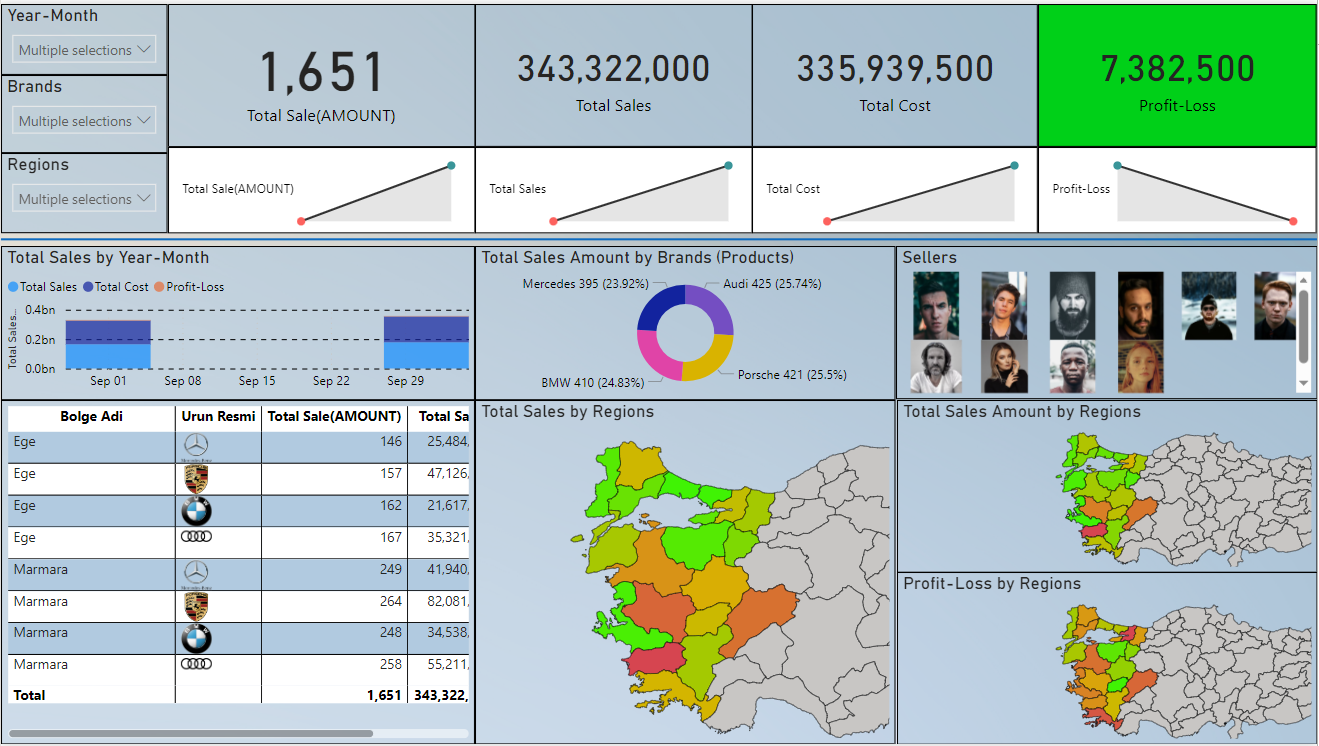

The dashboard page shown, as its layout file describes it:
{"tool":"powerbi","page":{"name":"Sales by Regions","canvas":[1280,720],"ordinal":0},"visuals":[{"type":"slicer","title":"Year-Month","fields":{"Values":["Satis Verileri.Yil-Ay"]},"box":[0,0,162.4,69.4],"z":0},{"type":"slicer","title":"Brands","fields":{"Values":["Urunler.Urun Adi"]},"box":[0,69.4,162.4,75.5],"z":1000},{"type":"card","fields":{"Values":["Measurements.Total Sale(AMOUNT)"]},"box":[162.4,0,298.5,138.7],"z":2000},{"type":"card","fields":{"Values":["Measurements.Total Sales"]},"box":[461,0,269.6,138.7],"z":3000},{"type":"card","fields":{"Values":["Measurements.Total Cost"]},"box":[730.5,0,278.3,138.7],"z":4000},{"type":"card","fields":{"Values":["Measurements.Profit-Loss"]},"box":[1008.9,0,271.3,138.7],"z":5000},{"type":"PBI_CV_25997FEB_F466_44FA_B562_AC4063283C4C","fields":{"axis":["Satis Verileri.Yil-Ay"],"measure":["Measurements.Total Sale(AMOUNT)"]},"box":[162.4,138.7,298.5,84.3],"z":6000},{"type":"PBI_CV_25997FEB_F466_44FA_B562_AC4063283C4C","fields":{"axis":["Satis Verileri.Yil-Ay"],"measure":["Measurements.Total Sales"]},"box":[461,138.7,269.6,84.3],"z":7000},{"type":"PBI_CV_25997FEB_F466_44FA_B562_AC4063283C4C","fields":{"axis":["Satis Verileri.Yil-Ay"],"measure":["Measurements.Total Cost"]},"box":[730.5,138.7,278.3,84.3],"z":8000},{"type":"PBI_CV_25997FEB_F466_44FA_B562_AC4063283C4C","fields":{"axis":["Satis Verileri.Yil-Ay"],"measure":["Measurements.Profit-Loss"]},"box":[1008.9,138.7,271.3,84.3],"z":9000},{"type":"columnChart","title":"Total Sales by Year-Month","fields":{"Category":["Satis Verileri.Yil-Ay"],"Y":["Measurements.Total Sales","Measurements.Total Cost","Measurements.Profit-Loss"]},"box":[0,235.3,461,150.1],"z":10000},{"type":"shape","box":[0,223,1280.2,12.3],"z":11000},{"type":"donutChart","title":"Total Sales Amount by Brands (Products)","fields":{"Y":["Measurements.Total Sale(AMOUNT)"],"Category":["Satis Verileri.Urun Adi"]},"box":[461,235.3,409.2,150.1],"z":12000},{"type":"tableEx","fields":{"Values":["Bolgeler.Bolge Adi","Urunler.Urun Resmi","Measurements.Total Sale(AMOUNT)","Measurements.Total Sales","Measurements.Total Cost"]},"box":[0,385.5,461,334.5],"z":13000},{"type":"shapeMap","title":"Total Sales by Regions","fields":{"Category":["Satis Verileri.Satis Merkezi"],"Value":["Measurements.Total Sales"]},"box":[461,385,409,335],"z":14000},{"type":"slicer","title":"Regions","fields":{"Values":["Bolgeler.Bolge Adi"]},"box":[0,144.9,162.4,78.1],"z":15000},{"type":"ImageGrid_FC5183B9_926C_45E0_B5F7_0CE9EAF1DA9B","title":"Sellers","fields":{"ImageURLHQ":["Saticilar.Fotograf Linki"]},"box":[870.1,235.3,410,149.3],"z":16000},{"type":"shapeMap","title":"Total Sales Amount by Regions","fields":{"Category":["Satis Verileri.Satis Merkezi"],"Value":["Measurements.Total Sale(AMOUNT)"]},"box":[871,385.5,409.2,167.7],"z":17000},{"type":"shapeMap","title":"Profit-Loss by Regions","fields":{"Category":["Satis Verileri.Satis Merkezi"],"Value":["Measurements.Profit-Loss"]},"box":[871,552.3,409.2,167.7],"z":18000}]}

Visuals, with their boxes in screenshot pixels (x1, y1, x2, y2), scaled from the page's 1280x720 canvas onto the 1319x746 screenshot:
"Year-Month" slicer: (x1=0, y1=0, x2=167, y2=72)
"Brands" slicer: (x1=0, y1=72, x2=167, y2=150)
card - Measurements.Total Sale(AMOUNT): (x1=167, y1=0, x2=475, y2=144)
card - Measurements.Total Sales: (x1=475, y1=0, x2=753, y2=144)
card - Measurements.Total Cost: (x1=753, y1=0, x2=1040, y2=144)
card - Measurements.Profit-Loss: (x1=1040, y1=0, x2=1318, y2=144)
PBI_CV_25997FEB_F466_44FA_B562_AC4063283C4C - Satis Verileri.Yil-Ay x Measurements.Total Sale(AMOUNT): (x1=167, y1=144, x2=475, y2=231)
PBI_CV_25997FEB_F466_44FA_B562_AC4063283C4C - Satis Verileri.Yil-Ay x Measurements.Total Sales: (x1=475, y1=144, x2=753, y2=231)
PBI_CV_25997FEB_F466_44FA_B562_AC4063283C4C - Satis Verileri.Yil-Ay x Measurements.Total Cost: (x1=753, y1=144, x2=1040, y2=231)
PBI_CV_25997FEB_F466_44FA_B562_AC4063283C4C - Satis Verileri.Yil-Ay x Measurements.Profit-Loss: (x1=1040, y1=144, x2=1318, y2=231)
"Total Sales by Year-Month" columnChart: (x1=0, y1=244, x2=475, y2=399)
shape: (x1=0, y1=231, x2=1318, y2=244)
"Total Sales Amount by Brands (Products)" donutChart: (x1=475, y1=244, x2=897, y2=399)
tableEx - Bolgeler.Bolge Adi x Urunler.Urun Resmi: (x1=0, y1=399, x2=475, y2=745)
"Total Sales by Regions" shapeMap: (x1=475, y1=399, x2=897, y2=745)
"Regions" slicer: (x1=0, y1=150, x2=167, y2=231)
"Sellers" ImageGrid_FC5183B9_926C_45E0_B5F7_0CE9EAF1DA9B: (x1=897, y1=244, x2=1318, y2=398)
"Total Sales Amount by Regions" shapeMap: (x1=898, y1=399, x2=1318, y2=573)
"Profit-Loss by Regions" shapeMap: (x1=898, y1=572, x2=1318, y2=745)
